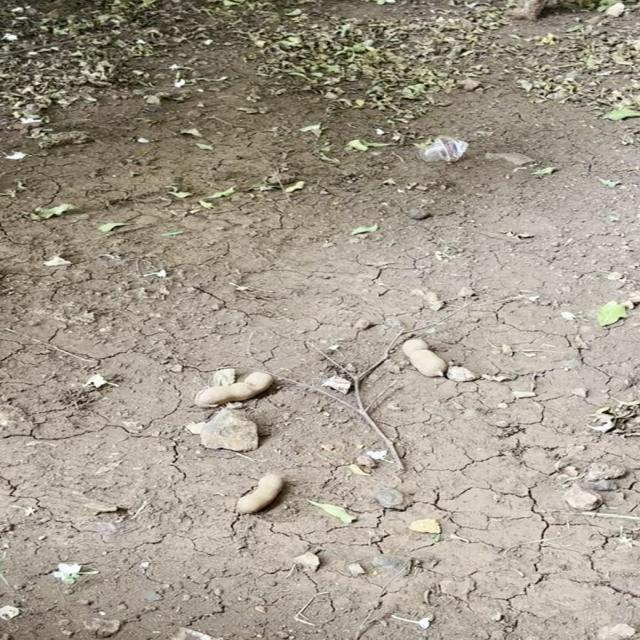tamarind: (190, 370, 276, 410), (392, 337, 456, 376), (234, 472, 287, 516)
